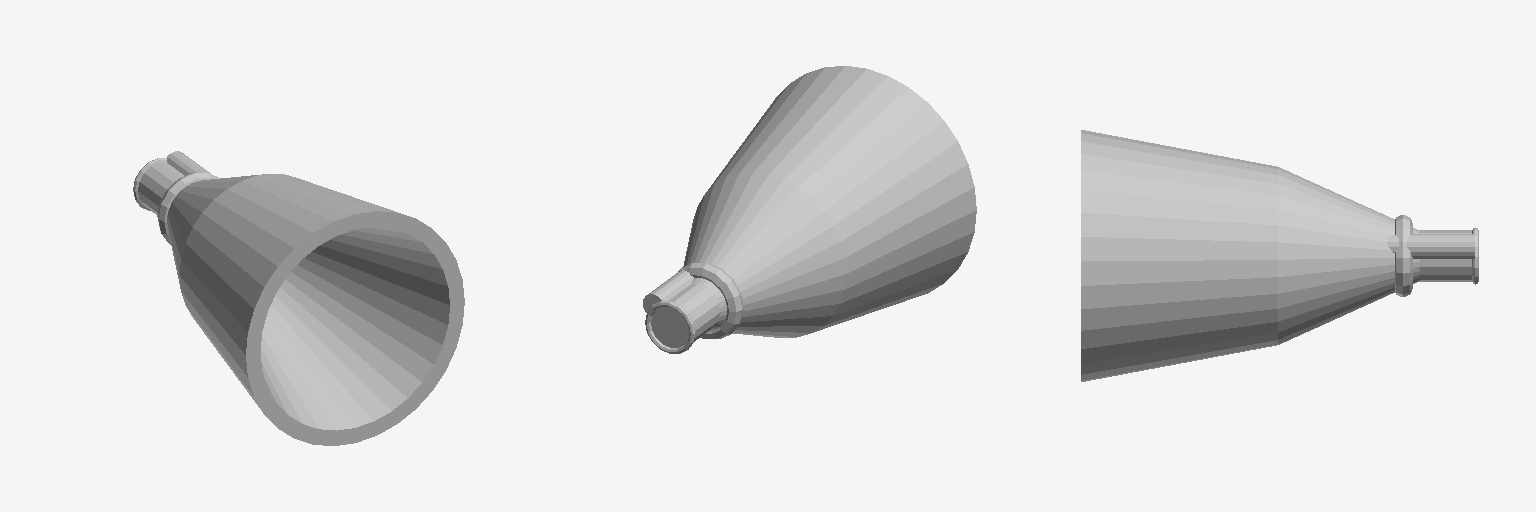
File: MerlinVacuum2.obj
The picture shows the model from 3 angles: view 1: azimuth 30°, elevation 25°; view 2: azimuth 150°, elevation 25°; view 3: azimuth 270°, elevation 25°; orthographic projection.
Visible parts, largest first — view 1: cone1; view 2: cone1; view 3: cone1.
Part boxes in pixels (left/top/right/bottom): cone1: left=133, top=151, right=464, bottom=445; cone1: left=643, top=66, right=976, bottom=353; cone1: left=1081, top=130, right=1478, bottom=381.
Bounding box in the file's own units: 8.89 × 8.89 × 13.97.